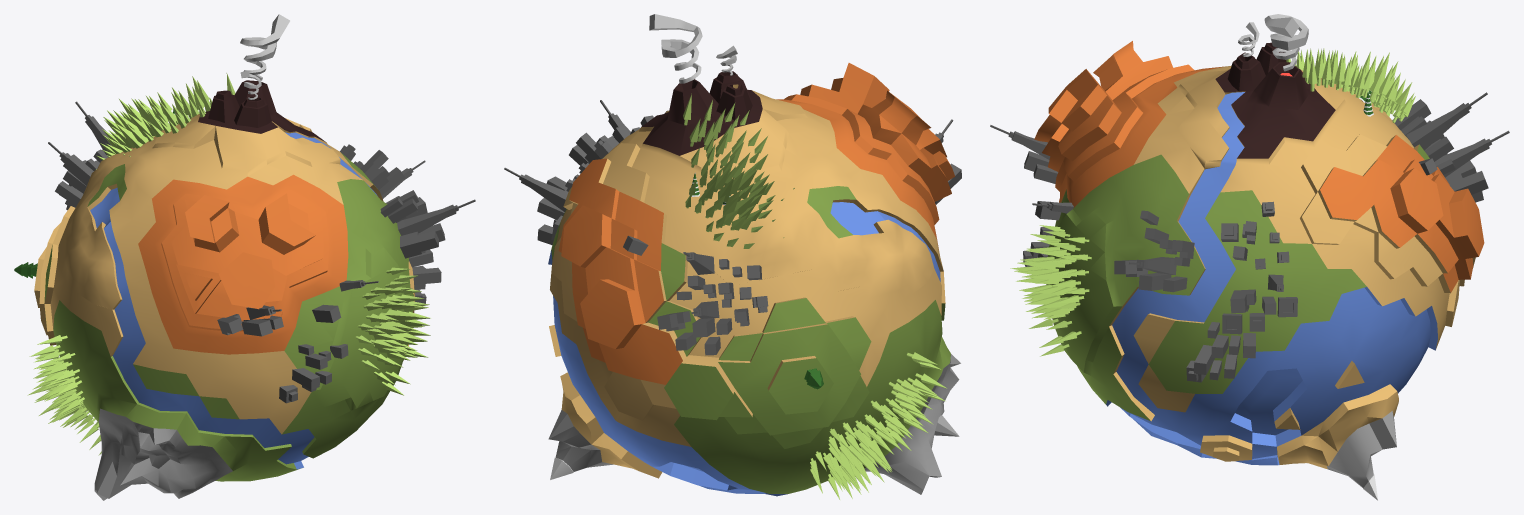
File: Now.glb
3 renders of one model, left to right at view 1: azimuth 30°, elevation 25°; view 2: azimuth 150°, elevation 25°; view 3: azimuth 270°, elevation 25°, orthographic. The views are drawn at different scales.
Parts seen in each view (by area): view 1: Ground, Rocky Mountains, Grass, Forest, Mountains, City, Water, Forest 1, City 1, Volcano, Smoke; view 2: Ground, Grass, Rocky Mountains, City, Water, Forest, Forest 1, Mountains, Volcano, Smoke, City 1; view 3: Ground, Grass, Water, Rocky Mountains, City, Volcano, Forest, Forest 1, Mountains, City 1, Smoke.
Part boxes in pixels (left/top/right/bottom): Ground: left=34, top=114, right=415, bottom=434; Rocky Mountains: left=138, top=174, right=348, bottom=354; Grass: left=44, top=153, right=413, bottom=481; Forest: left=27, top=267, right=430, bottom=455; Mountains: left=94, top=408, right=232, bottom=500; City: left=48, top=101, right=475, bottom=303; Water: left=90, top=132, right=377, bottom=469; Forest 1: left=95, top=73, right=235, bottom=169; City 1: left=217, top=280, right=378, bottom=403; Volcano: left=198, top=80, right=326, bottom=142; Smoke: left=240, top=14, right=289, bottom=99; Ground: left=549, top=84, right=945, bottom=478; Grass: left=551, top=186, right=950, bottom=493; Rocky Mountains: left=558, top=63, right=954, bottom=384; City: left=504, top=100, right=768, bottom=355; Water: left=548, top=202, right=940, bottom=496; Forest: left=810, top=352, right=946, bottom=499; Forest 1: left=683, top=93, right=794, bottom=248; Mountains: left=548, top=354, right=960, bottom=494; Volcano: left=641, top=71, right=762, bottom=155; Smoke: left=649, top=14, right=737, bottom=83; City 1: left=623, top=119, right=961, bottom=255; Ground: left=1109, top=65, right=1475, bottom=469; Grass: left=1046, top=144, right=1429, bottom=420; Water: left=1106, top=92, right=1437, bottom=465; Rocky Mountains: left=1034, top=41, right=1484, bottom=292; City: left=1114, top=92, right=1509, bottom=382; Volcano: left=1215, top=42, right=1335, bottom=158; Forest: left=1010, top=225, right=1091, bottom=356; Forest 1: left=1286, top=48, right=1415, bottom=122; Mountains: left=1327, top=411, right=1396, bottom=487; City 1: left=990, top=125, right=1437, bottom=266; Smoke: left=1238, top=14, right=1308, bottom=71.
Size of the model in its own units: 0.1804 by 0.1857 by 0.1873.
